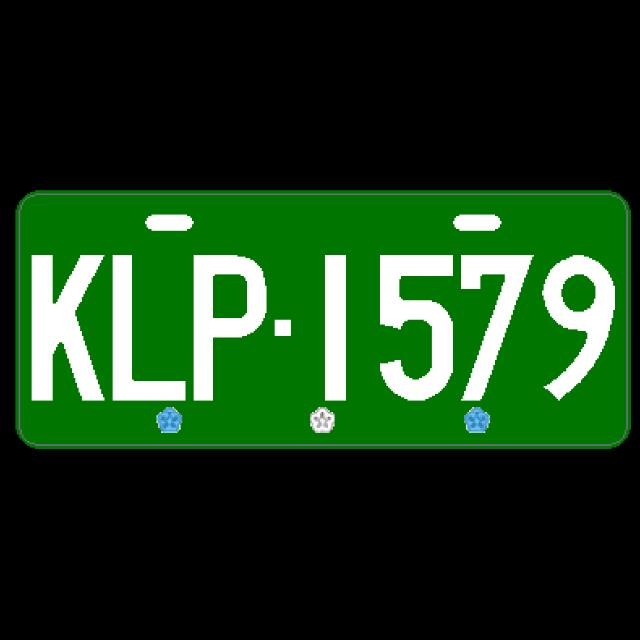plate: (14, 187, 634, 451)
